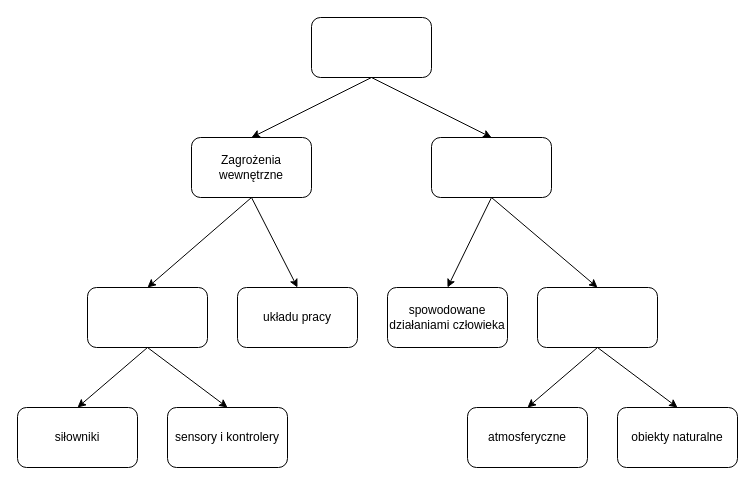
Some shapes in this 755 by 485 pixel diagram are drawn without their labels. The shapes that lost their labels are listed below. From the top down, each one's centre as x and y in pixels, then its label:
At [371,47]: "Zagrożenia".
At [491,167]: "Zagrożenia zewnętrzne".
At [147,317]: "układu sterowania".
At [597,317]: "naturalne".
